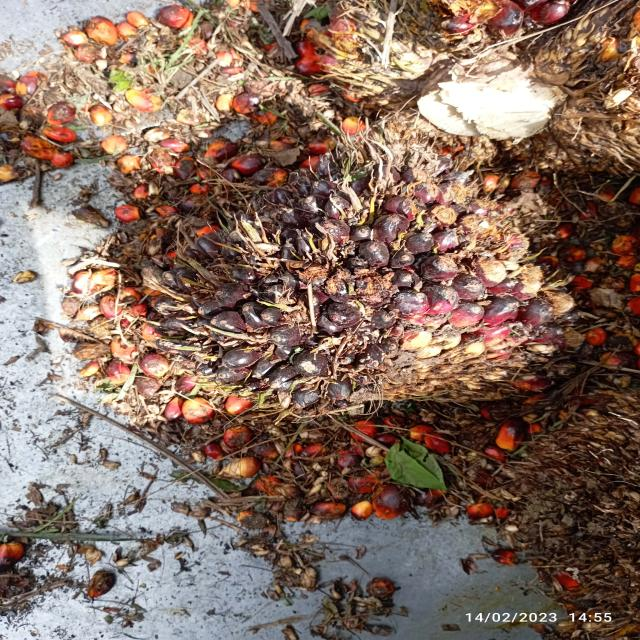fraksi 00: (59, 119, 562, 442)
